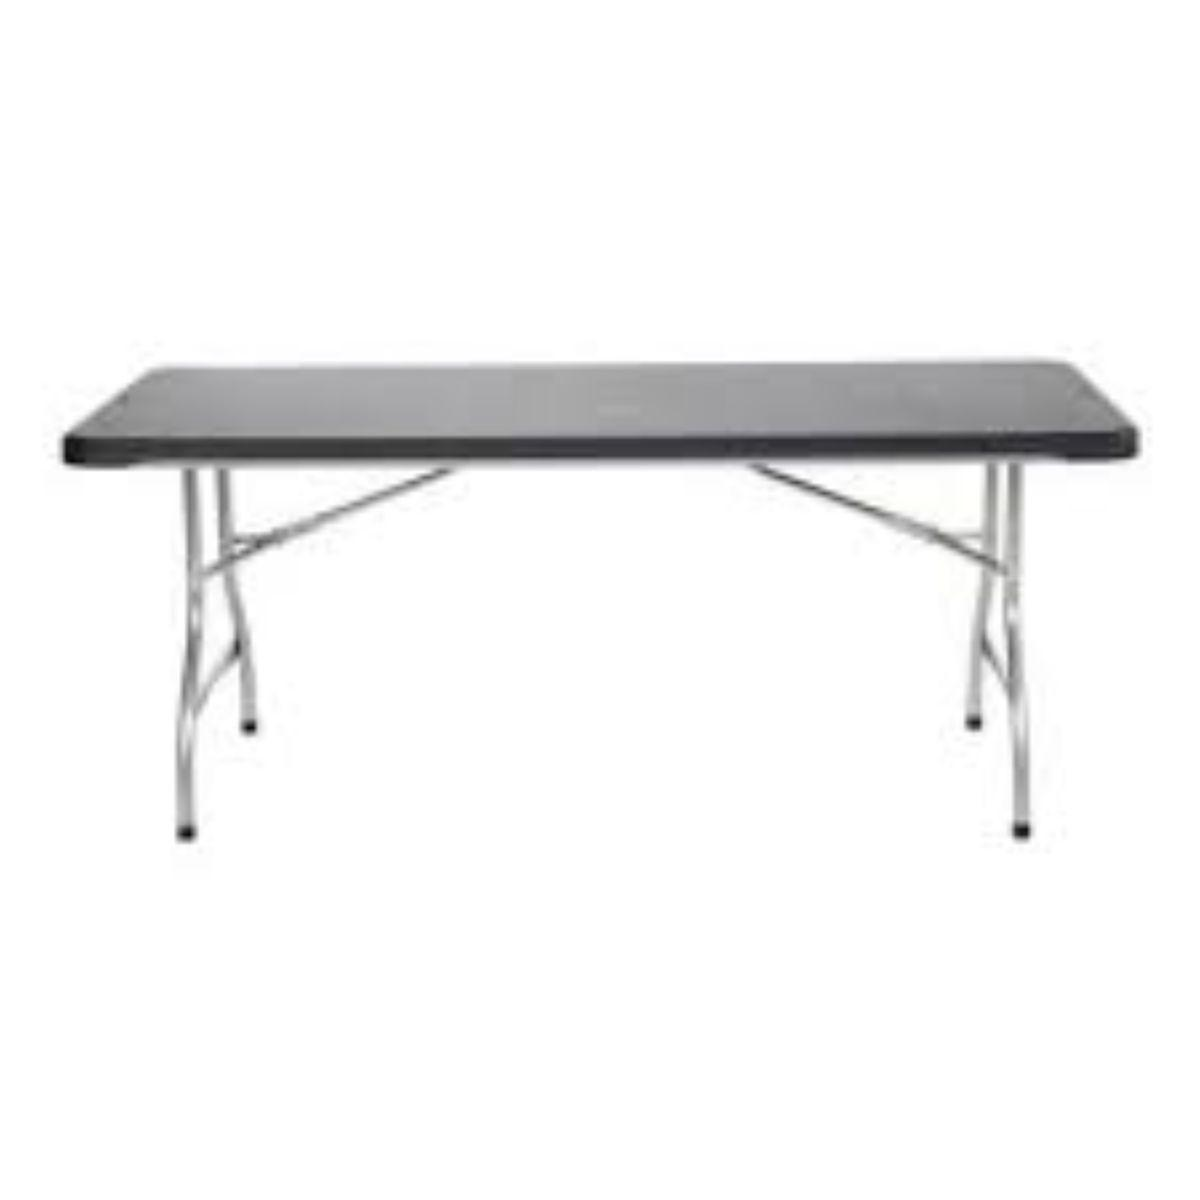Table: (44, 306, 1160, 981)
